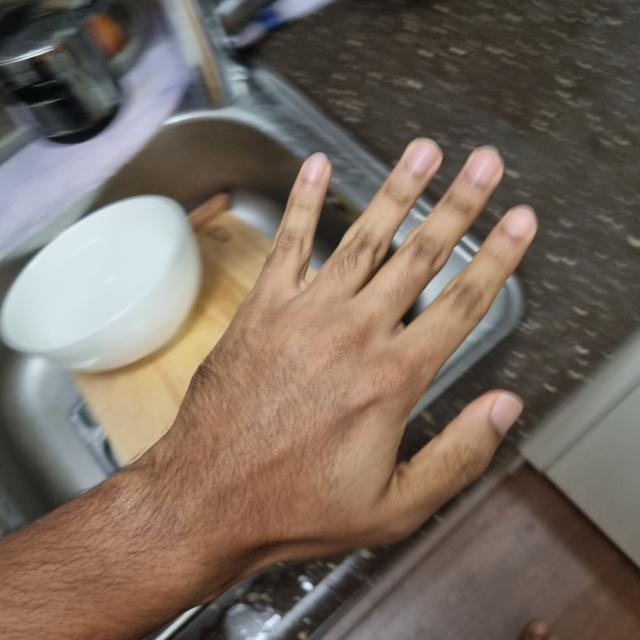Paper: (148, 145, 531, 558)
